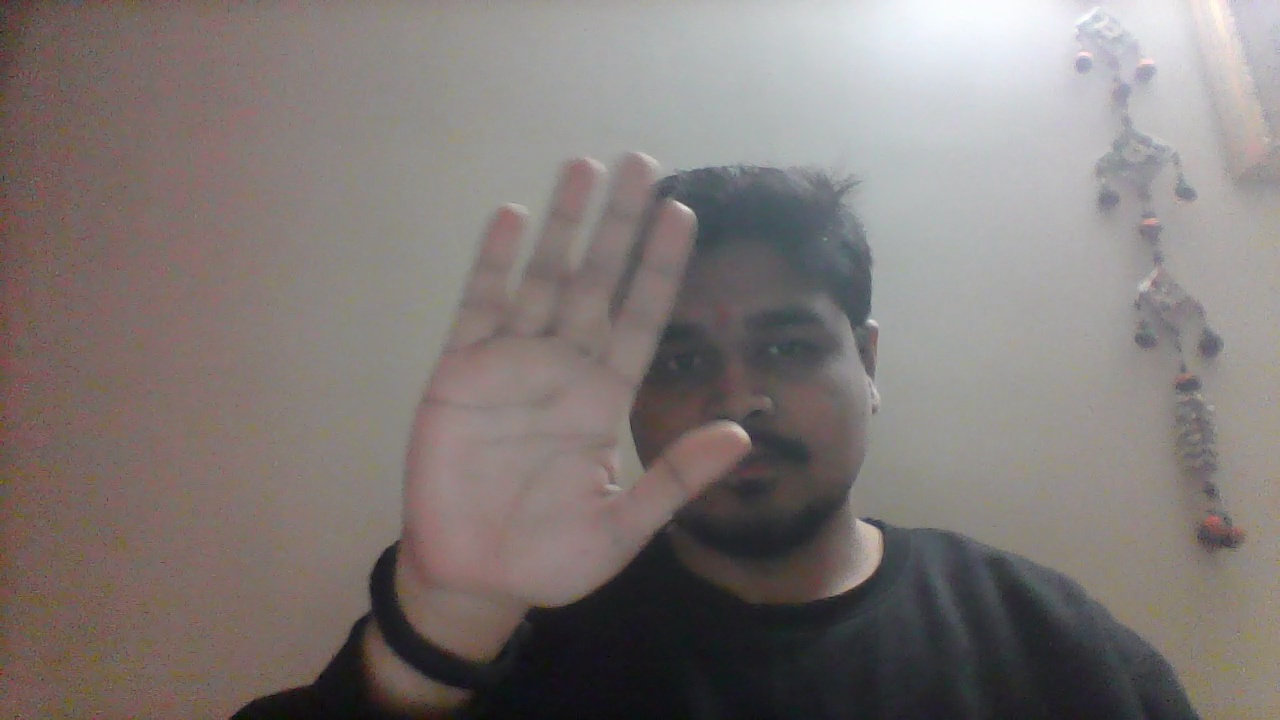Hello: (398, 153, 750, 611)
